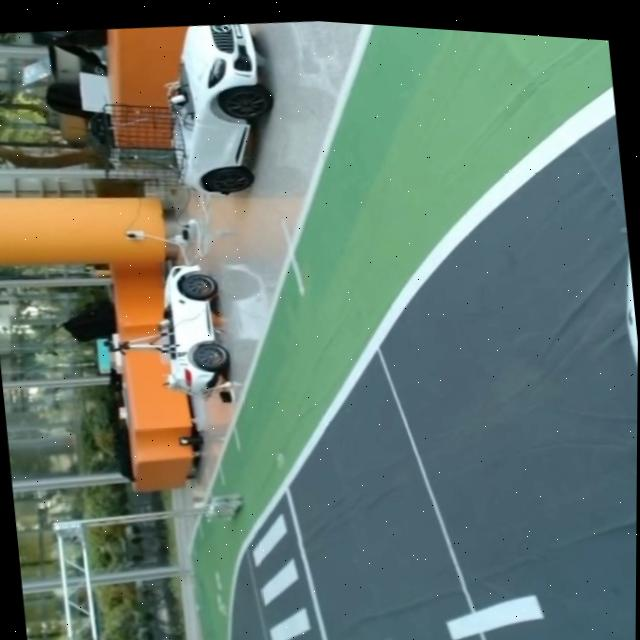traffic-light: (61, 629, 119, 640)
